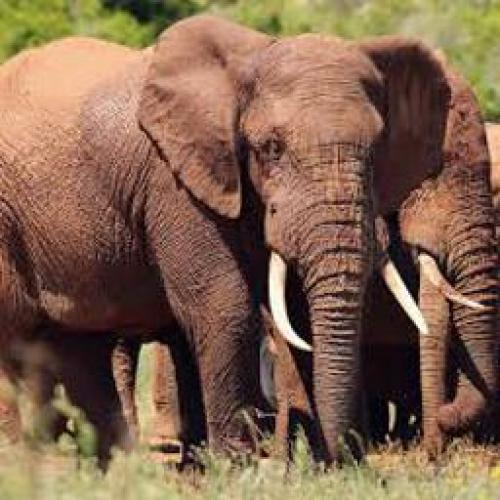african_elephant-endangered: (0, 13, 451, 470), (362, 68, 498, 443)
